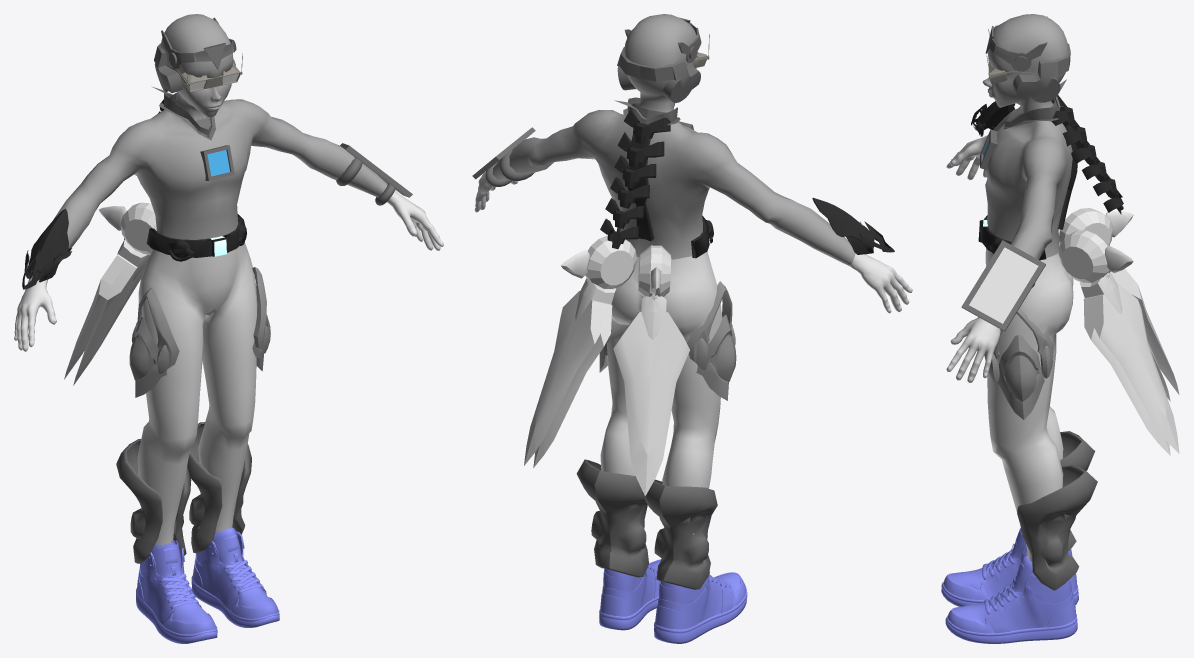
3 renders of one model, left to right at view 1: azimuth 30°, elevation 25°; view 2: azimuth 150°, elevation 25°; view 3: azimuth 270°, elevation 25°, orthographic.
Visible parts, largest first — view 1: 下身, 上身, 鞋子, 腚甲, 大腿护甲, 头部, 小腿护甲, 小腿护甲.001, 右手护甲, 腰带.001, 右手, 左手 (+5 smaller); view 2: 腚甲, 上身, 下身, 鞋子, 小腿护甲, 小腿护甲.001, 后脑装甲, 大腿护甲, 头部, 耳机, 右手, 右手护甲 (+3 smaller); view 3: 腚甲, 下身, 上身, 鞋子, 小腿护甲.001, 头部, 大腿护甲, 显示屏.屏幕, 后脑装甲, 左手, 耳机, 显示屏 (+8 smaller).
Boxes of the visible parts, x1,y1,x2,y2 form: 下身: (137,242,257,546); 上身: (53,91,387,264); 鞋子: (136,527,279,643); 腚甲: (64,202,156,385); 大腿护甲: (129,267,270,397); 头部: (160,14,233,117); 小腿护甲: (116,439,191,563); 小腿护甲.001: (187,422,251,553); 右手护甲: (22,208,71,289); 腰带.001: (146,214,246,261); 右手: (14,275,56,351); 左手: (387,190,443,250); 腚甲: (524,235,689,495); 上身: (492,92,855,265); 下身: (600,251,722,534); 鞋子: (599,559,747,643); 小腿护甲: (642,479,717,589); 小腿护甲.001: (576,459,648,577); 后脑装甲: (600,109,670,249); 大腿护甲: (599,281,736,400); 头部: (624,14,697,97); 耳机: (617,47,700,102); 右手: (849,253,912,313); 右手护甲: (812,197,894,254); 腚甲: (1058,208,1179,455); 下身: (985,243,1073,561); 上身: (985,97,1072,259); 鞋子: (941,528,1078,643); 小腿护甲.001: (1017,465,1097,590); 头部: (982,14,1068,107); 大腿护甲: (984,308,1053,419); 显示屏.屏幕: (969,247,1038,323); 后脑装甲: (1051,95,1123,214); 左手: (946,317,1000,382); 耳机: (1013,43,1070,102); 显示屏: (961,240,1045,331).
Bounding box in the file's own units: 701 × 951 × 342.
